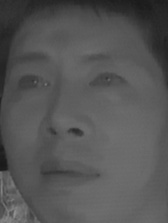eye: (86, 68, 127, 94), (15, 73, 52, 97)
mouth: (34, 154, 100, 195)
